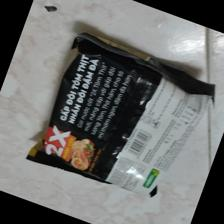3mien: (24, 32, 216, 201)
